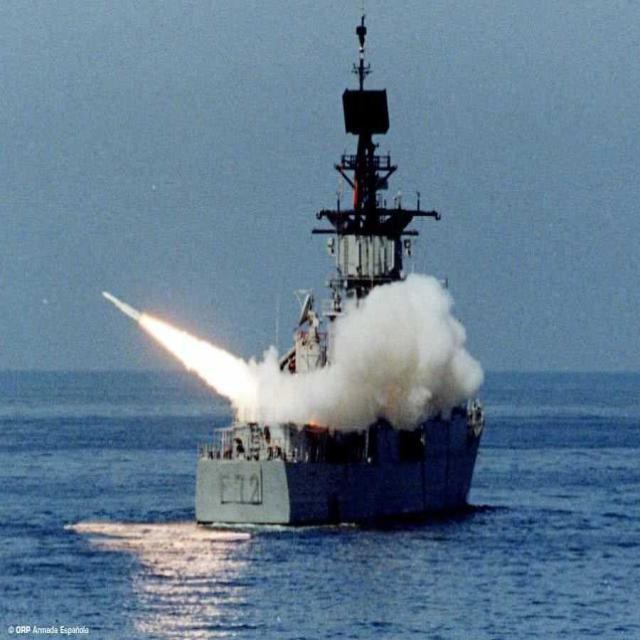missile: (101, 288, 142, 324)
